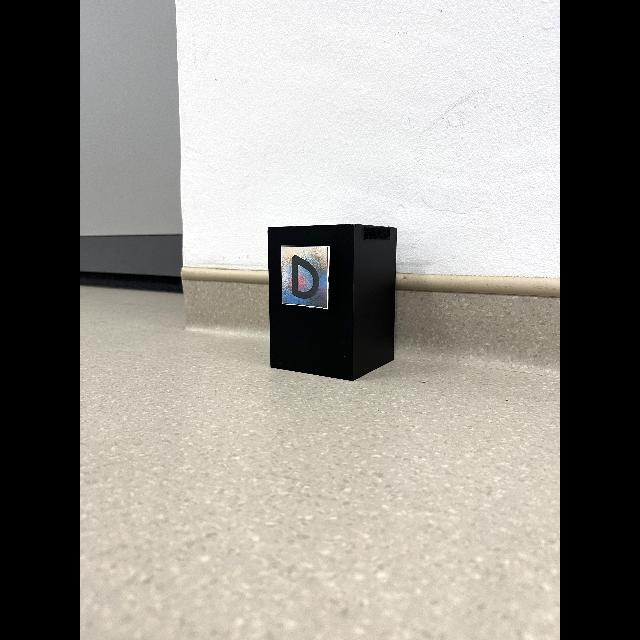D: (292, 256, 319, 299)
